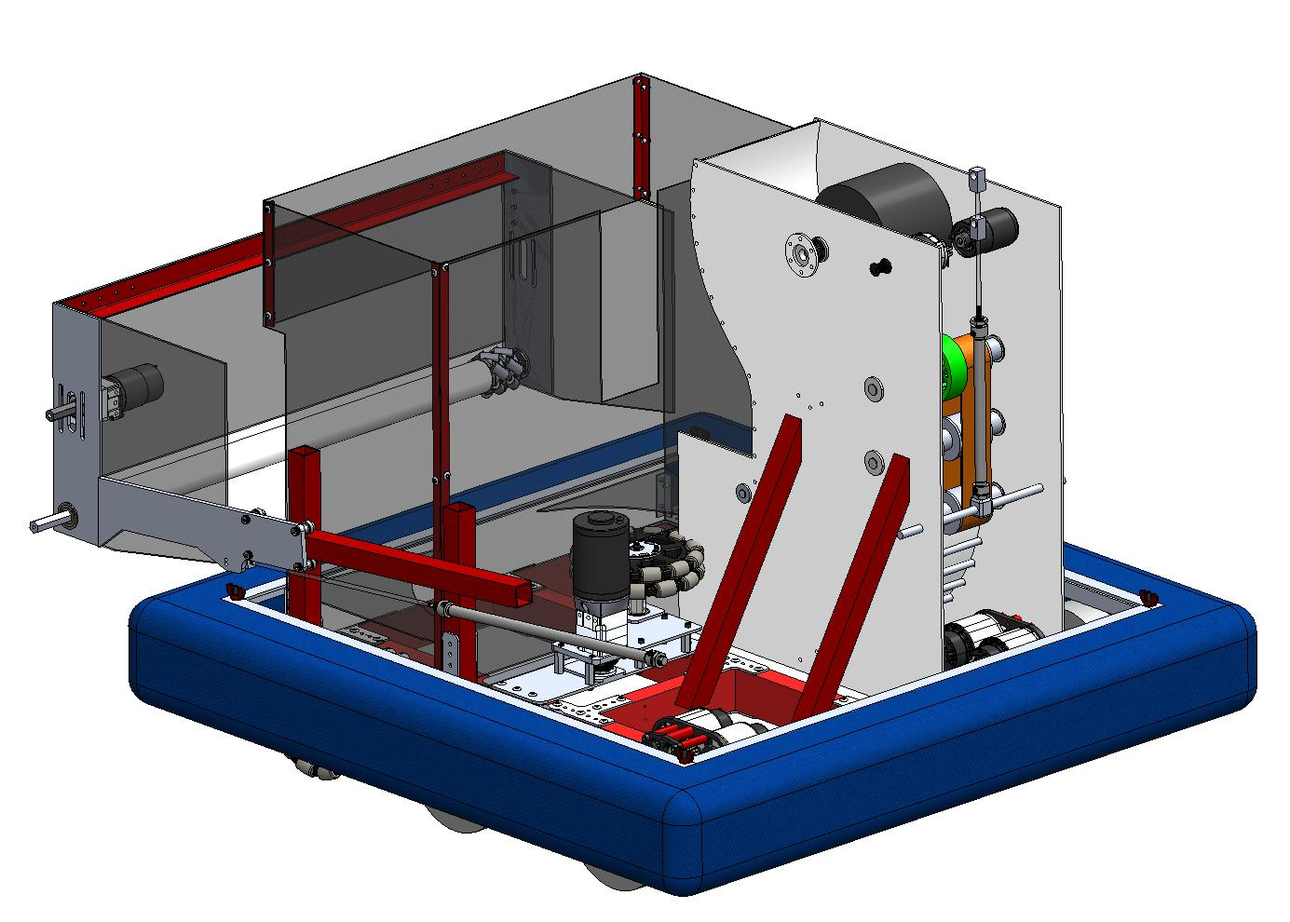robot: (20, 17, 1268, 903)
